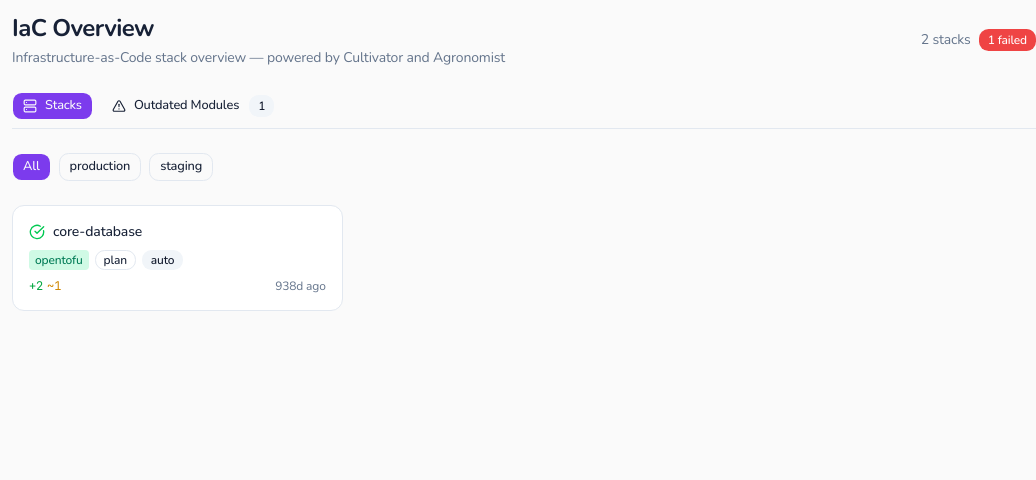
IacDashboardClient › shows empty state for an environment tab that has no stacks in the map
This screenshot has width=1036, height=480.
What coordinates should you click on to do the following:
click the button "production"
I would click on:
 (100, 167)
Its box is [59, 153, 141, 181].
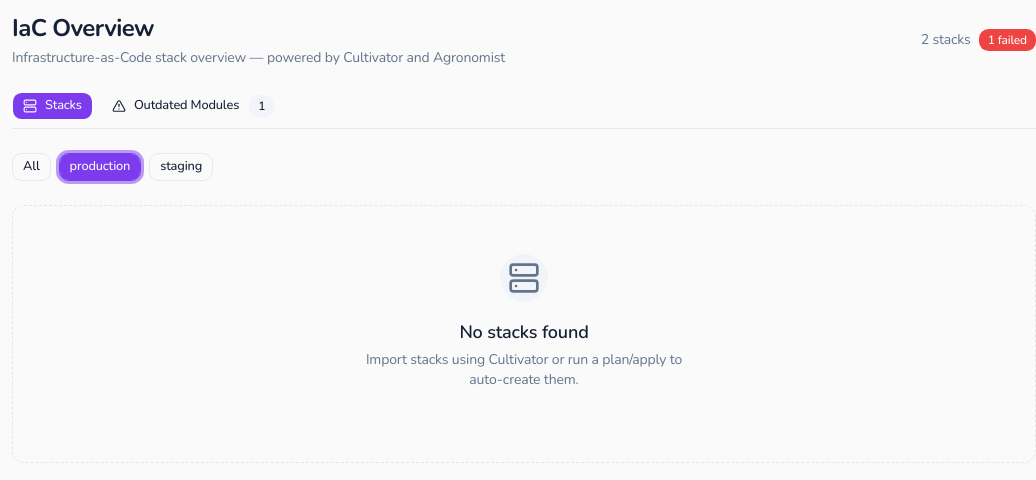
Expected: the heading "No stacks found" is shown, [459, 318, 589, 346]
